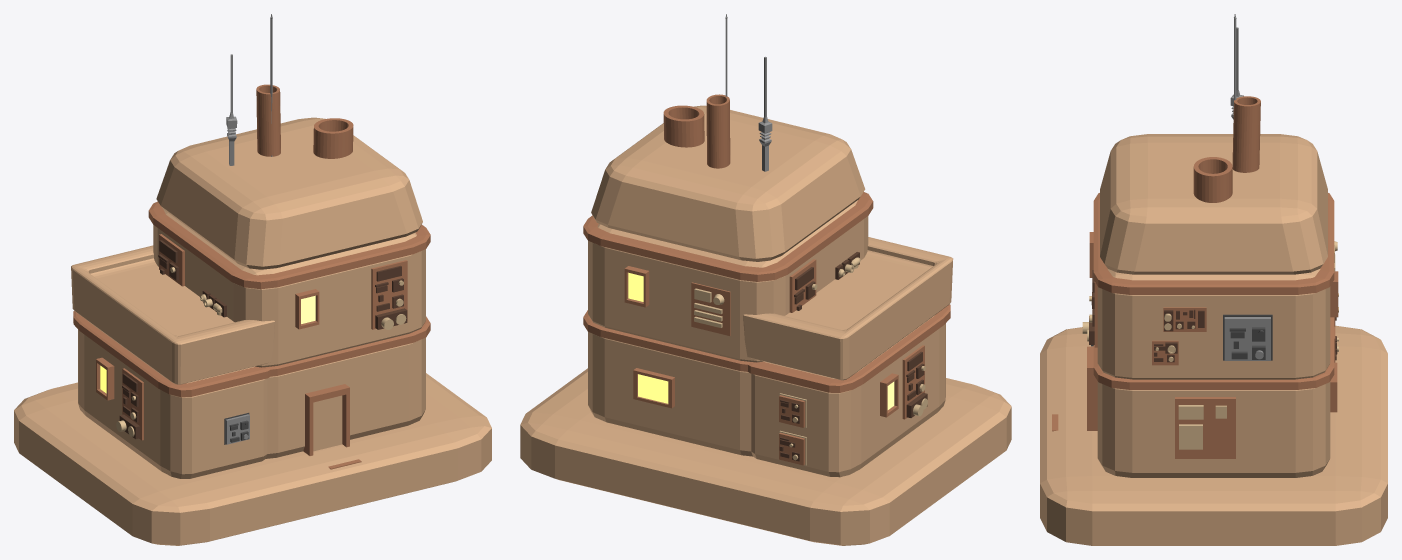
File: nomad_building_28.fbx
The picture shows the model from 3 angles, left to right: view 1: azimuth 30°, elevation 25°; view 2: azimuth 150°, elevation 25°; view 3: azimuth 270°, elevation 25°; orthographic projection. The views are drawn at different scales.
Parts seen in each view (by area): view 1: B28_M_Foundation_rectangular, B28_M_R10_square_roof_defualt, B28_M_R01_roof_simple, B28_M_Blk10_base, B28_M_Blk01_rectangular_unit, B28_M_Blk00_base, B28_M_B10_Band_square_diameter_default, B28_M_B01_Band_square_diameter_default, B28_M_B00_Band_square_diameter_default, B28_M_Stack1_TowerBody_StackNarrow, B28_M_Stack0_TowerBody_StackWide, B28_M_Door_Door_Leaf (+6 smaller); view 2: B28_M_Foundation_rectangular, B28_M_R10_square_roof_defualt, B28_M_R01_roof_simple, B28_M_Blk10_base, B28_M_Blk01_rectangular_unit, B28_M_Blk00_base, B28_M_B10_Band_square_diameter_default, B28_M_B01_Band_square_diameter_default, B28_M_B00_Band_square_diameter_default, B28_M_Stack1_TowerBody_StackNarrow, B28_M_Stack0_TowerBody_StackWide, B28_M_Panel7_PanelBox_Body001 (+7 smaller); view 3: B28_M_Foundation_rectangular, B28_M_R10_square_roof_defualt, B28_M_Blk10_base, B28_M_Blk00_base, B28_M_B10_Band_square_diameter_default, B28_M_B00_Band_square_diameter_default, B28_M_Panel2_PanelBox_Body, B28_M_Stack1_TowerBody_StackNarrow, B28_M_Stack0_TowerBody_StackWide, B28_M_Panel1_MeterBox_Face001, B28_M_Door_Door_Frame, B28_M_Panel0_MeterBox_Face003 (+2 smaller).
Boxes of the visible parts, box(x1,y1,x2,y2) form: B28_M_Foundation_rectangular: box(14, 373, 491, 545); B28_M_R10_square_roof_defualt: box(156, 117, 422, 269); B28_M_R01_roof_simple: box(71, 245, 275, 384); B28_M_Blk10_base: box(153, 209, 425, 367); B28_M_Blk01_rectangular_unit: box(78, 322, 267, 478); B28_M_Blk00_base: box(265, 337, 425, 458); B28_M_B10_Band_square_diameter_default: box(148, 201, 430, 289); B28_M_B01_Band_square_diameter_default: box(73, 311, 270, 397); B28_M_B00_Band_square_diameter_default: box(268, 316, 430, 376); B28_M_Stack1_TowerBody_StackNarrow: box(256, 84, 280, 156); B28_M_Stack0_TowerBody_StackWide: box(313, 118, 353, 158); B28_M_Door_Door_Leaf: box(313, 395, 342, 451); B28_M_Foundation_rectangular: box(520, 368, 1011, 545); B28_M_R10_square_roof_defualt: box(591, 105, 865, 261); B28_M_R01_roof_simple: box(743, 237, 953, 380); B28_M_Blk10_base: box(588, 200, 868, 362); B28_M_Blk01_rectangular_unit: box(751, 315, 945, 477); B28_M_Blk00_base: box(588, 332, 752, 456); B28_M_B10_Band_square_diameter_default: box(583, 192, 873, 281); B28_M_B01_Band_square_diameter_default: box(748, 304, 950, 392); B28_M_B00_Band_square_diameter_default: box(583, 310, 750, 371); B28_M_Stack1_TowerBody_StackNarrow: box(706, 94, 730, 168); B28_M_Stack0_TowerBody_StackWide: box(663, 105, 704, 147); B28_M_Panel7_PanelBox_Body001: box(691, 282, 730, 335); B28_M_Foundation_rectangular: box(1040, 325, 1387, 545); B28_M_R10_square_roof_defualt: box(1100, 134, 1327, 274); B28_M_Blk10_base: box(1097, 269, 1330, 379); B28_M_Blk00_base: box(1097, 381, 1330, 477); B28_M_B10_Band_square_diameter_default: box(1093, 193, 1334, 294); B28_M_B00_Band_square_diameter_default: box(1093, 317, 1334, 389); B28_M_Panel2_PanelBox_Body: box(1175, 397, 1235, 458); B28_M_Stack1_TowerBody_StackNarrow: box(1232, 96, 1260, 172); B28_M_Stack0_TowerBody_StackWide: box(1193, 157, 1232, 202); B28_M_Panel1_MeterBox_Face001: box(1224, 317, 1270, 360); B28_M_Door_Door_Frame: box(1087, 346, 1097, 430); B28_M_Panel0_MeterBox_Face003: box(1163, 307, 1206, 331).
Size of the model in its own units: 362 by 420 by 287.
